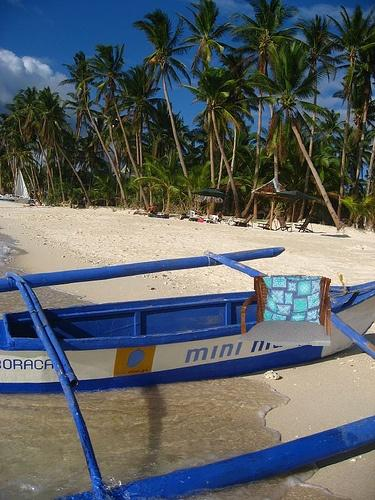tampered: (237, 276, 331, 346)
